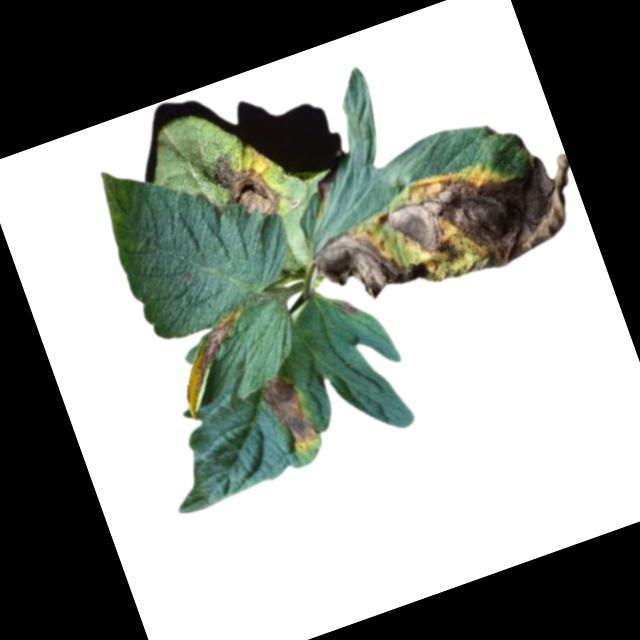Early_blight: (298, 130, 592, 327), (164, 311, 267, 417), (201, 143, 287, 234), (256, 367, 324, 456), (312, 180, 336, 210)
